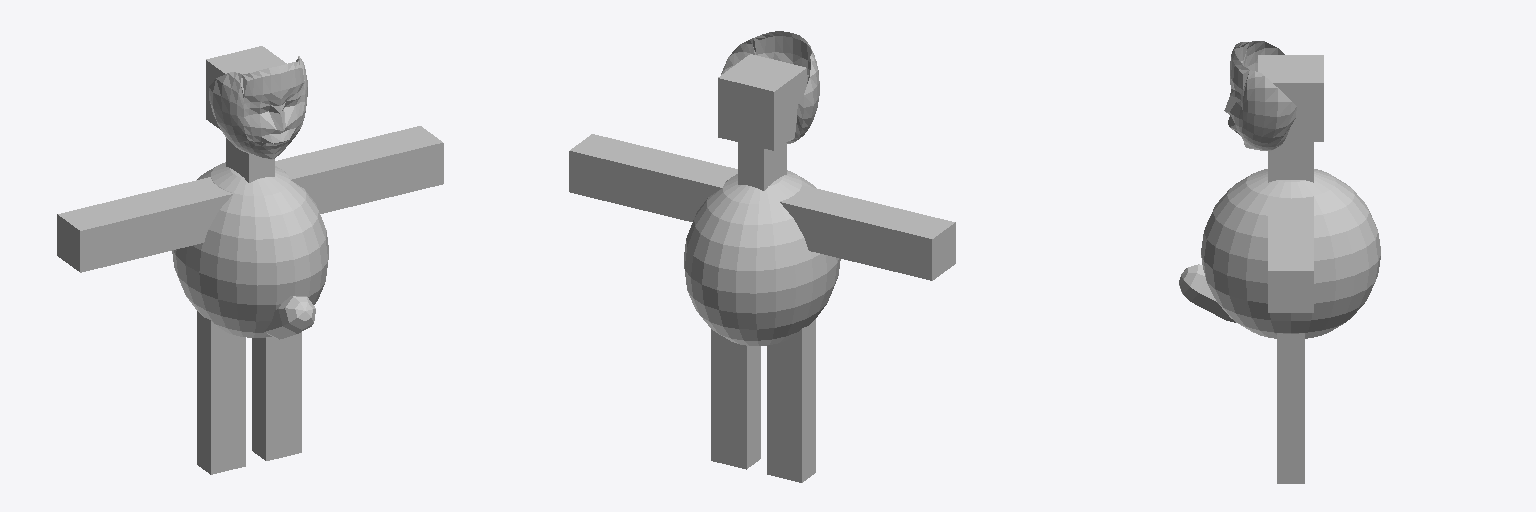
The model's file is PlaceholderModel.obj.
3 renders of one model, left to right at view 1: azimuth 30°, elevation 25°; view 2: azimuth 150°, elevation 25°; view 3: azimuth 270°, elevation 25°, orthographic.
Parts seen in each view (by area): view 1: Cube, Sphere, Sphere_1, Cube.2, Cube.3, Cube.4, Capsule; view 2: Cube, Sphere, Cube.4, Cube.2, Cube.3, Sphere_1; view 3: Sphere, Cube.4, Cube, Sphere_1, Cube.3, Capsule.
Part boxes in pixels (x1,y1,x2,y2): Cube: (57, 126, 443, 272); Sphere: (172, 162, 328, 337); Sphere_1: (209, 56, 307, 159); Cube.2: (197, 311, 245, 474); Cube.3: (252, 332, 301, 460); Cube.4: (206, 46, 286, 182); Capsule: (265, 296, 315, 339); Cube: (569, 134, 955, 280); Sphere: (684, 170, 840, 345); Cube.4: (718, 54, 806, 190); Cube.2: (767, 319, 815, 482); Cube.3: (711, 329, 760, 469); Sphere_1: (721, 31, 819, 143); Sphere: (1201, 169, 1380, 338); Cube.4: (1258, 55, 1323, 182); Cube: (1268, 196, 1313, 312); Sphere_1: (1224, 41, 1296, 151); Cube.3: (1277, 333, 1304, 483); Capsule: (1179, 264, 1235, 322).
Size of the model in its own units: 464 by 505 by 225.